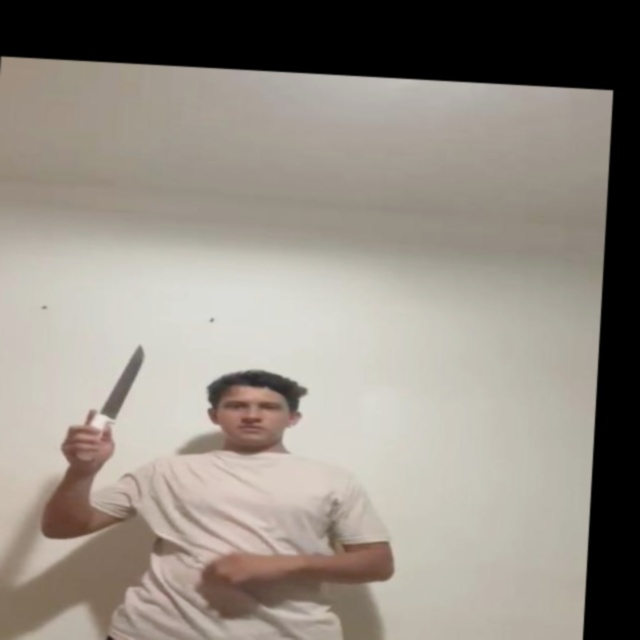Sharp-Object: (105, 342, 149, 419)
